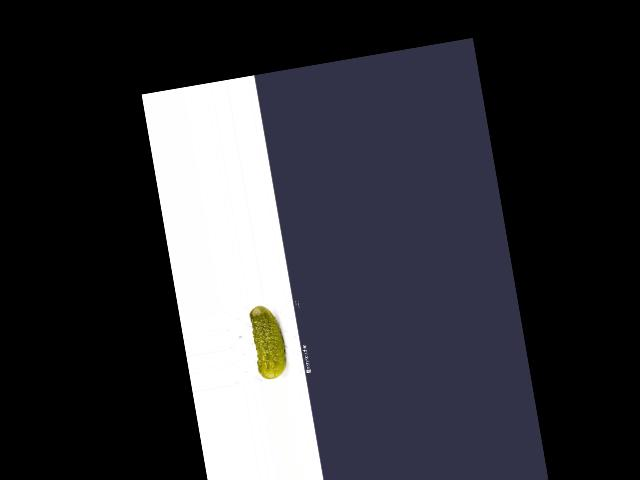cucumber: (247, 301, 289, 380)
